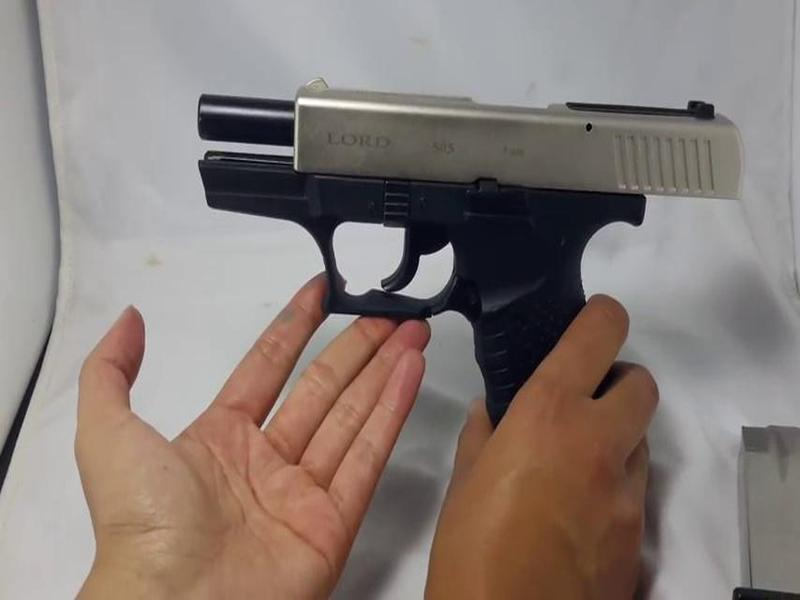Pistola: (170, 68, 726, 431)
